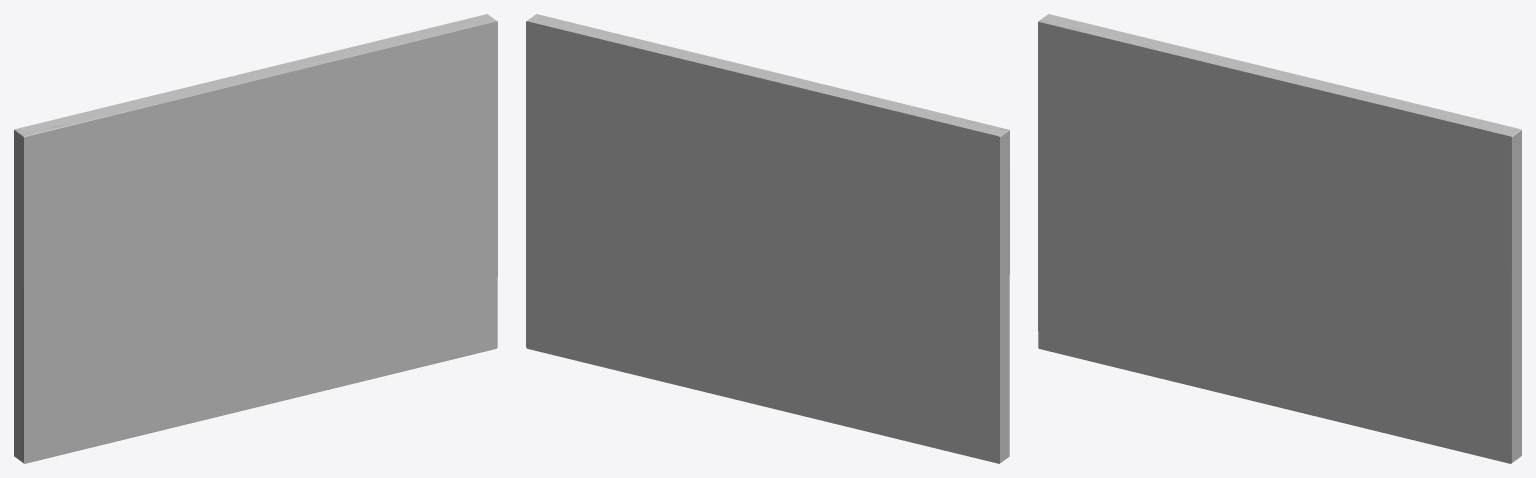
The model's file is SM_GCG_Wallframe_I.fbx.
3 views of the same model, side by side, from view 1: azimuth 30°, elevation 25°; view 2: azimuth 150°, elevation 25°; view 3: azimuth 330°, elevation 25° (orthographic).
Visible parts, largest first — view 1: SM_GCG_Wallframe_I_ConvexHulls, SM_GCG_Wallframe_I; view 2: SM_GCG_Wallframe_I_ConvexHulls; view 3: SM_GCG_Wallframe_I_ConvexHulls, SM_GCG_Wallframe_I.
Boxes of the visible parts, x1,y1,x2,y2 form: SM_GCG_Wallframe_I_ConvexHulls: [14, 14, 497, 463]; SM_GCG_Wallframe_I: [21, 89, 215, 136]; SM_GCG_Wallframe_I_ConvexHulls: [526, 14, 1009, 463]; SM_GCG_Wallframe_I_ConvexHulls: [1038, 14, 1521, 463]; SM_GCG_Wallframe_I: [1039, 18, 1228, 67].
Bounding box in the file's own units: 284 × 10.24 × 188.
Materials: 3 (2 with a texture image).
